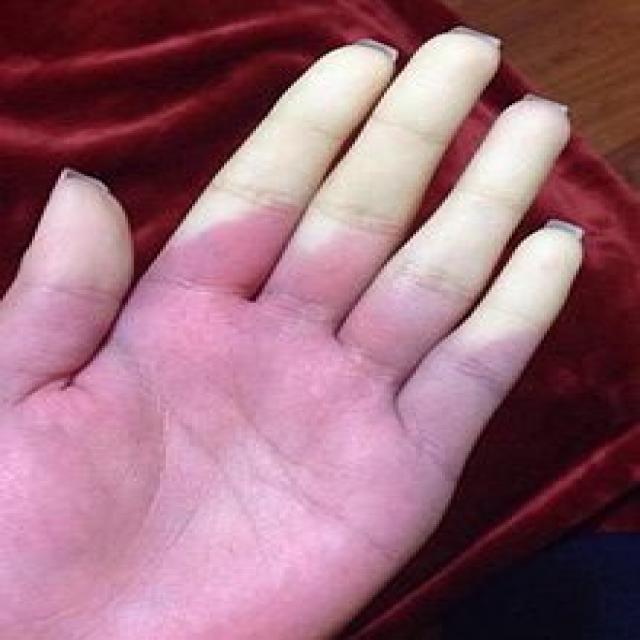raynauds: (165, 18, 600, 360)
